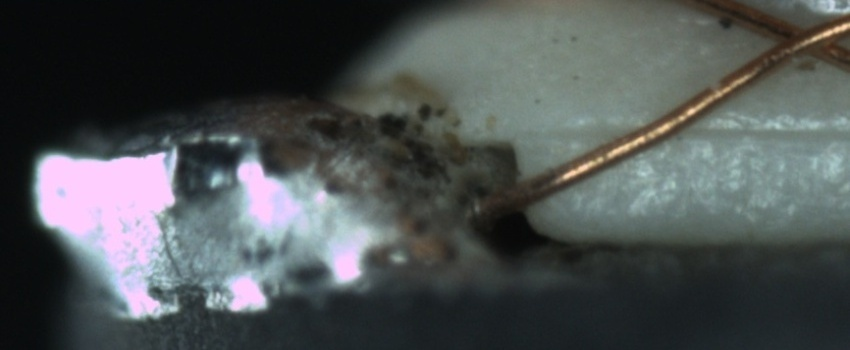CL: (755, 7, 848, 69)
DL: (545, 102, 846, 160)
